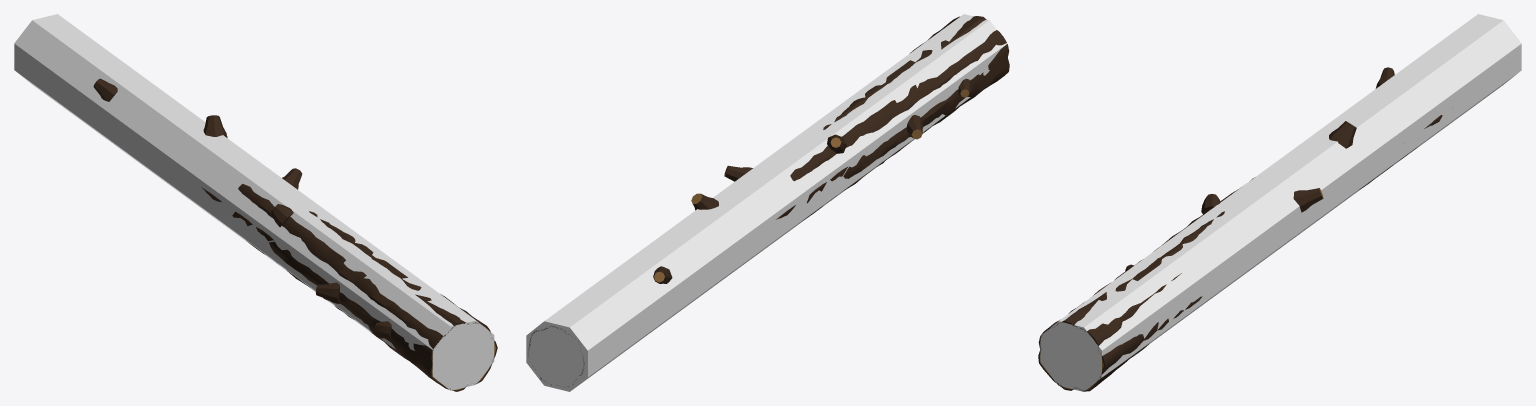
The model's file is Log_Long.fbx.
The picture shows the model from 3 angles, left to right: view 1: azimuth 30°, elevation 25°; view 2: azimuth 150°, elevation 25°; view 3: azimuth 330°, elevation 25°; orthographic projection.
Parts seen in each view (by area): view 1: COL_Log_Long, Log_Long_Body; view 2: COL_Log_Long, Log_Long_Body; view 3: COL_Log_Long, Log_Long_Body.
Boxes of the visible parts, bbox=[...] form: COL_Log_Long: bbox=[14, 14, 494, 390]; Log_Long_Body: bbox=[93, 78, 497, 391]; COL_Log_Long: bbox=[526, 14, 1007, 391]; Log_Long_Body: bbox=[528, 16, 1009, 386]; COL_Log_Long: bbox=[1040, 14, 1521, 391]; Log_Long_Body: bbox=[1038, 67, 1442, 391].
Size of the model in its own units: 0.6312 by 0.5265 by 5.
